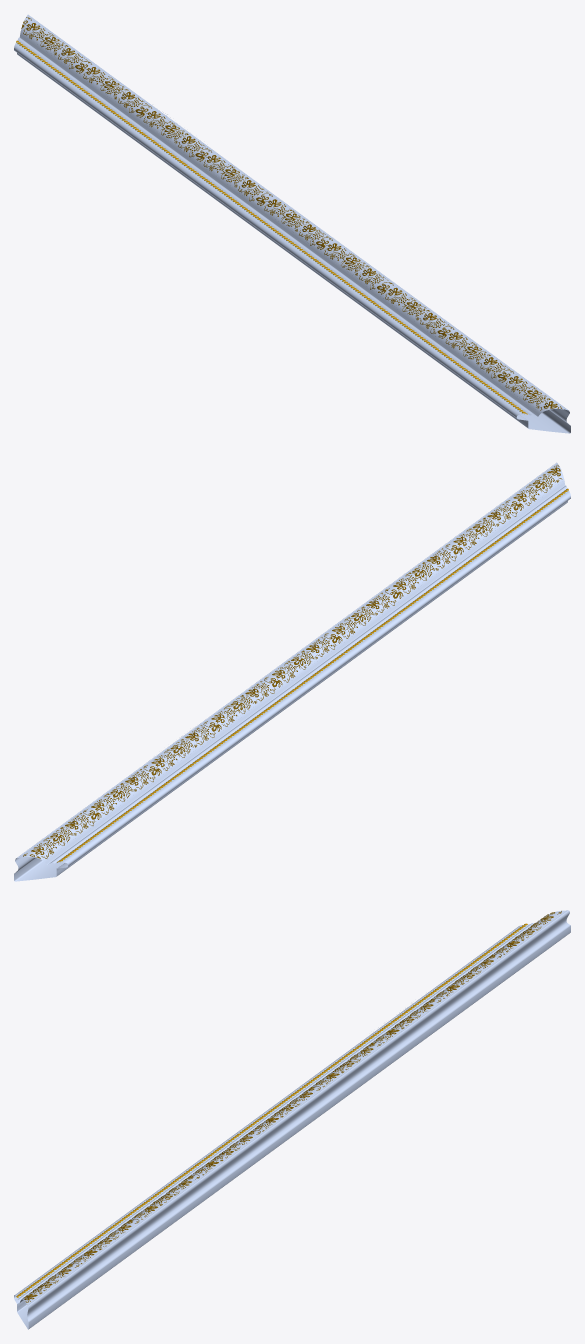
File: APPLIED2.glb
3 renders of one model, top to bottom at view 1: azimuth 30°, elevation 25°; view 2: azimuth 150°, elevation 25°; view 3: azimuth 330°, elevation 25°, orthographic.
Parts seen in each view (by area): view 1: final.002, Plane.017, Plane.029, Plane.015, Plane.012, Plane.027, Plane.023, Plane.025, Plane.013, Plane.031, final.003, final.004 (+1 smaller); view 2: final.002, Plane.017, Plane.015, Plane.029, Plane.025, Plane.012, Plane.023, Plane.027, Plane.013, Plane.031, final.004, final.003 (+1 smaller); view 3: final.002, final.003, final.004, final.067.
Part boxes in pixels (x1,y1,x2,y2): final.002: [14, 14, 570, 433]; Plane.017: [195, 149, 268, 201]; Plane.029: [437, 326, 509, 378]; Plane.015: [135, 105, 207, 157]; Plane.012: [75, 61, 147, 112]; Plane.027: [377, 282, 449, 333]; Plane.023: [256, 193, 328, 245]; Plane.025: [316, 237, 388, 289]; Plane.013: [21, 17, 87, 68]; Plane.031: [497, 370, 564, 410]; final.003: [150, 140, 303, 250]; final.004: [302, 250, 454, 361]; final.002: [14, 462, 570, 881]; Plane.017: [203, 681, 275, 731]; Plane.015: [143, 725, 215, 775]; Plane.029: [445, 504, 517, 554]; Plane.025: [324, 592, 396, 643]; Plane.012: [83, 769, 155, 819]; Plane.023: [264, 637, 336, 687]; Plane.027: [385, 548, 456, 598]; Plane.013: [23, 813, 95, 858]; Plane.031: [505, 465, 562, 510]; final.004: [343, 542, 496, 653]; final.003: [192, 653, 345, 764]; final.002: [14, 910, 570, 1329]; final.003: [239, 1023, 392, 1133]; final.004: [88, 1133, 241, 1244]; final.067: [390, 923, 527, 1023].
Bounding box in the file's own units: 2.82 × 2.04 × 76.97.
